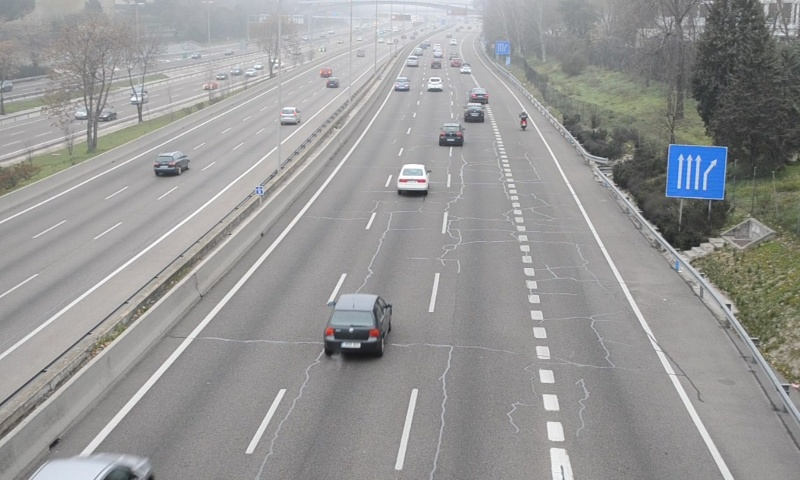car: (324, 294, 392, 354), (397, 164, 428, 192), (439, 123, 465, 147), (464, 102, 485, 124), (469, 86, 490, 103), (426, 76, 444, 92), (393, 76, 410, 91)
motorcycle: (518, 110, 529, 132)
